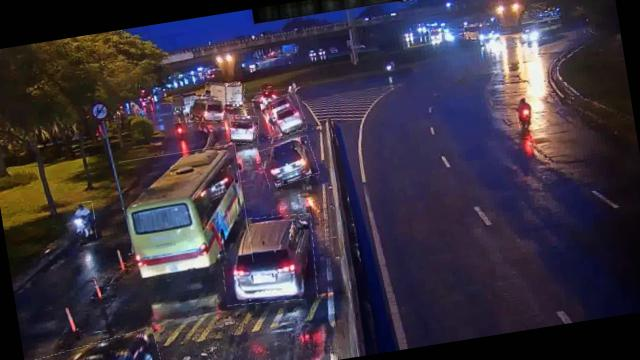Bike: (70, 200, 97, 241), (514, 96, 536, 127), (174, 120, 187, 138)
Bus: (119, 143, 254, 280)
Car: (216, 208, 322, 310), (23, 330, 165, 360), (258, 136, 318, 187), (260, 93, 306, 140), (187, 93, 226, 125), (227, 112, 261, 146)
Truck: (202, 78, 246, 112)
